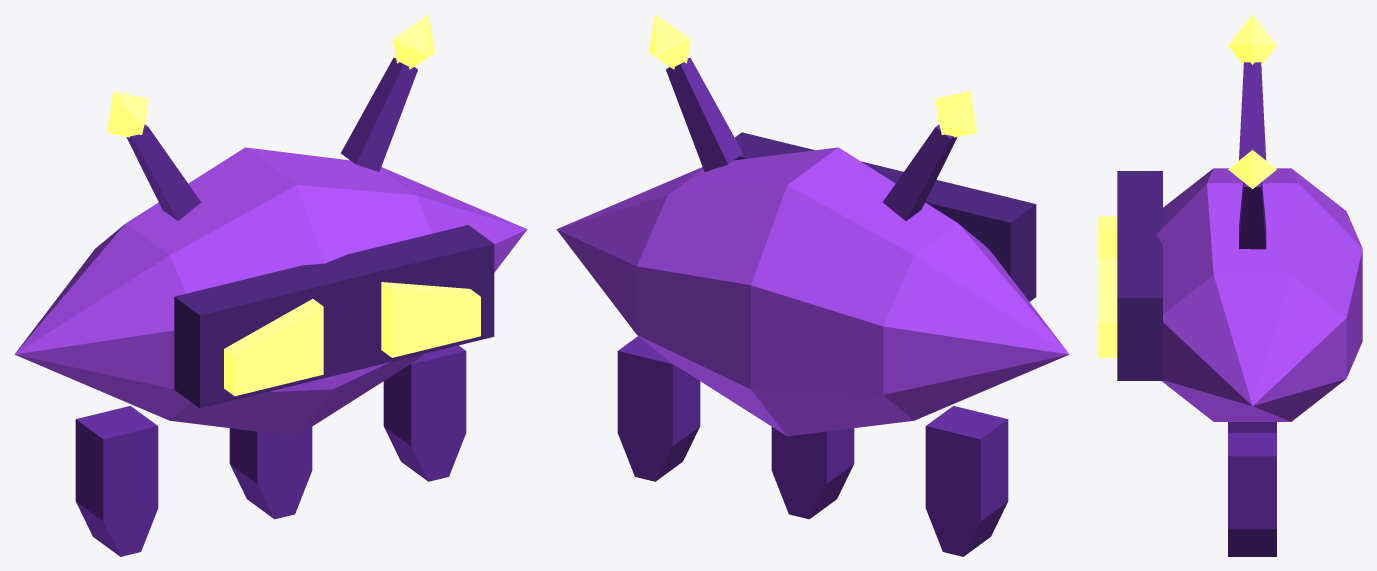
Rendered from drone.glb.
The picture shows the model from 3 angles, left to right: view 1: azimuth 30°, elevation 25°; view 2: azimuth 150°, elevation 25°; view 3: azimuth 270°, elevation 25°; orthographic projection. The views are drawn at different scales.
Visible parts, largest first — view 1: body, leg_0, leg_2, eye_L, eye_R, leg_1, antenna_R, antenna_L; view 2: body, leg_0, leg_2, leg_1, antenna_R, antenna_L; view 3: body, leg_2, antenna_L, antenna_R, eye_R, eye_L, leg_1.
Part boxes in pixels (left/top/right/bottom): body: left=14, top=147, right=527, bottom=436; leg_0: left=75, top=406, right=158, bottom=556; leg_2: left=383, top=345, right=466, bottom=481; eye_L: left=224, top=299, right=323, bottom=396; eye_R: left=381, top=282, right=480, bottom=357; leg_1: left=229, top=427, right=312, bottom=519; antenna_R: left=340, top=14, right=434, bottom=171; antenna_L: left=107, top=91, right=201, bottom=220; body: left=556, top=132, right=1069, bottom=436; leg_0: left=925, top=406, right=1008, bottom=556; leg_2: left=617, top=336, right=700, bottom=481; leg_1: left=771, top=427, right=854, bottom=519; antenna_R: left=649, top=14, right=743, bottom=171; antenna_L: left=883, top=91, right=976, bottom=220; body: left=1117, top=168, right=1362, bottom=421; leg_2: left=1228, top=432, right=1276, bottom=556; antenna_L: left=1228, top=14, right=1276, bottom=160; antenna_R: left=1228, top=150, right=1276, bottom=249; eye_R: left=1098, top=259, right=1117, bottom=357; eye_L: left=1098, top=216, right=1117, bottom=258; leg_1: left=1228, top=422, right=1276, bottom=432.
Size of the model in its own units: 15 by 12.69 by 7.54.
